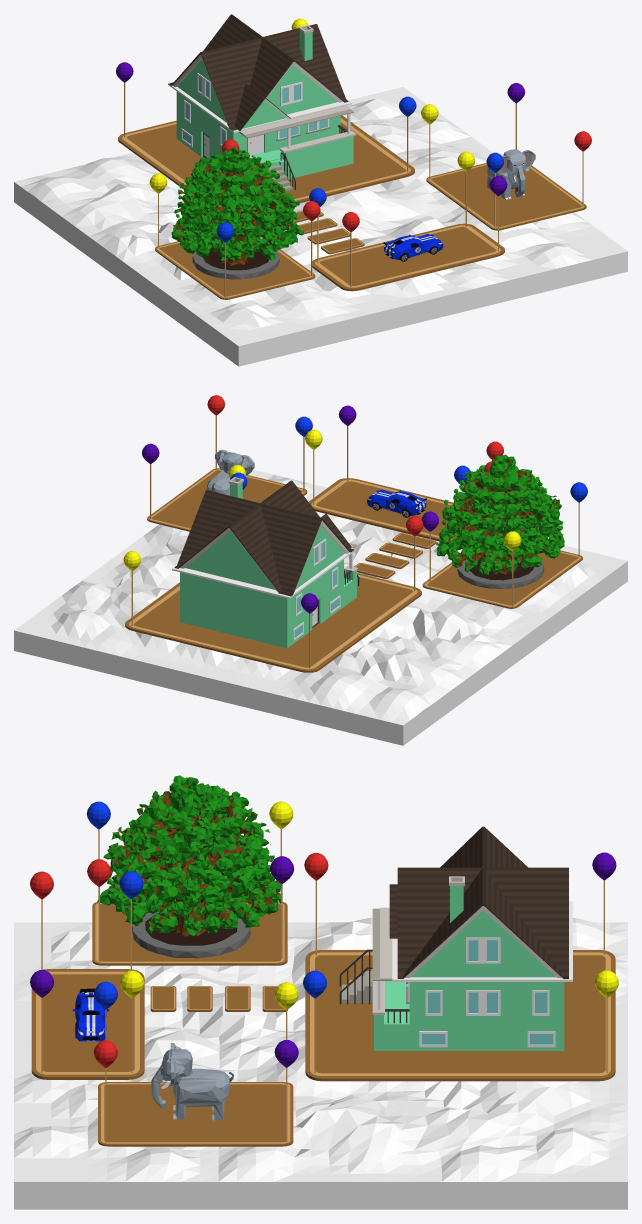
3 renders of one model, top to bottom at view 1: azimuth 30°, elevation 25°; view 2: azimuth 150°, elevation 25°; view 3: azimuth 270°, elevation 25°, orthographic. The views are drawn at different scales.
Visible parts, largest first — view 1: Cube.013, Cube.352, OBJRANDOM_CEIBA, ANIMAL_ELEFANTE, VEHICLES_RACING_CAR; view 2: Cube.013, Cube.352, OBJRANDOM_CEIBA, VEHICLES_RACING_CAR, ANIMAL_ELEFANTE; view 3: Cube.013, Cube.352, OBJRANDOM_CEIBA, ANIMAL_ELEFANTE, VEHICLES_RACING_CAR.
Boxes of the visible parts, x1=… form: Cube.013: x1=14, y1=18, x2=627, y2=366; Cube.352: x1=168, y1=14, x2=356, y2=191; OBJRANDOM_CEIBA: x1=171, y1=146, x2=303, y2=279; ANIMAL_ELEFANTE: x1=487, y1=149, x2=535, y2=199; VEHICLES_RACING_CAR: x1=383, y1=234, x2=443, y2=261; Cube.013: x1=14, y1=395, x2=627, y2=745; Cube.352: x1=172, y1=477, x2=359, y2=648; OBJRANDOM_CEIBA: x1=435, y1=454, x2=564, y2=588; VEHICLES_RACING_CAR: x1=367, y1=489, x2=426, y2=517; ANIMAL_ELEFANTE: x1=206, y1=449, x2=254, y2=495; Cube.013: x1=14, y1=801, x2=627, y2=1209; Cube.352: x1=339, y1=826, x2=572, y2=1050; OBJRANDOM_CEIBA: x1=97, y1=775, x2=281, y2=958; ANIMAL_ELEFANTE: x1=151, y1=1043, x2=233, y2=1120; VEHICLES_RACING_CAR: x1=72, y1=988, x2=109, y2=1041.
Bounding box in the file's own units: 4000 × 1696 × 4000.
Materials: 36 (1 with a texture image).
